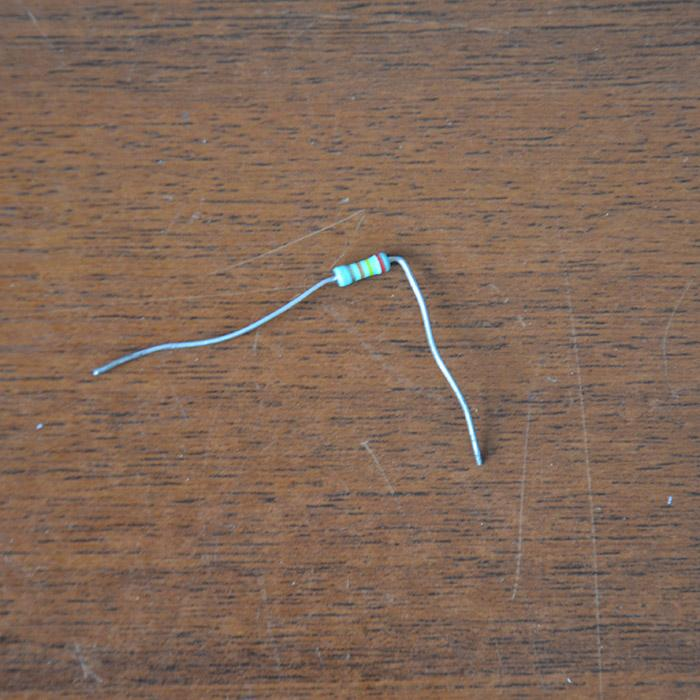resistor: (332, 251, 393, 288)
